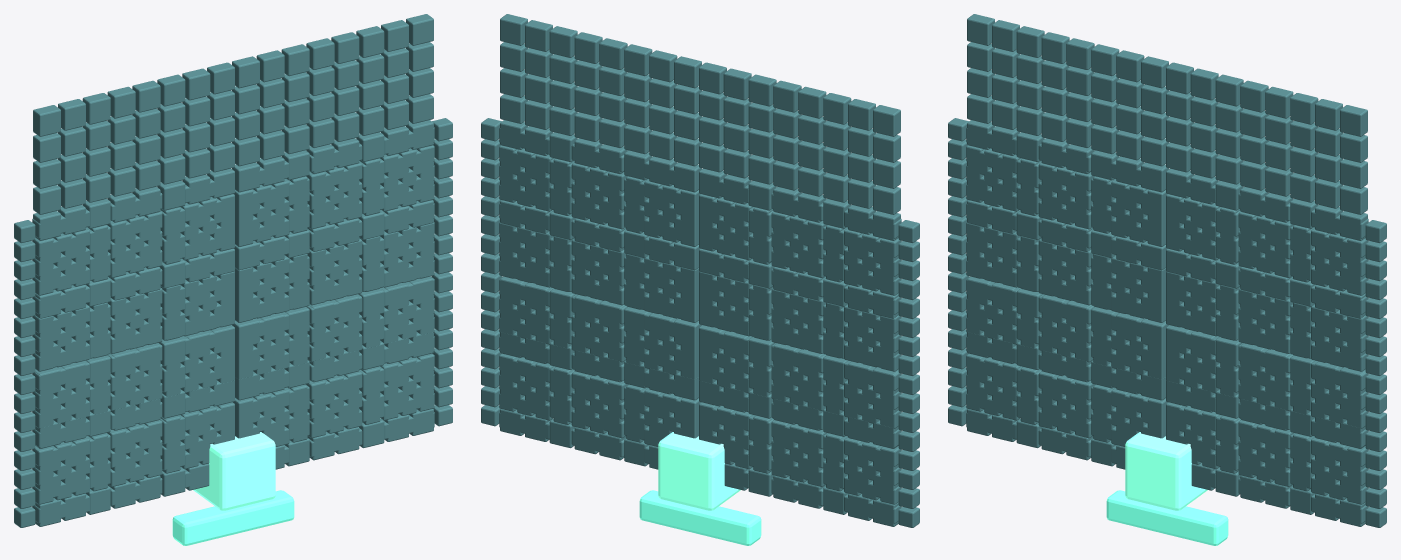
Rendered from detail_kit.glb.
3 views of the same model, side by side, from view 1: azimuth 30°, elevation 25°; view 2: azimuth 150°, elevation 25°; view 3: azimuth 330°, elevation 25° (orthographic).
Visible parts, largest first — view 1: cache_unit, shared_expert, attention_0, attention_3, attention_6, attention_11, attention_13, attention_10, attention_12, attention_4, attention_5, attention_16 (+81 smaller); view 2: cache_unit, shared_expert, attention_0, attention_3, attention_6, attention_11, attention_13, attention_10, attention_12, attention_4, attention_5, attention_16 (+85 smaller); view 3: cache_unit, shared_expert, attention_15, attention_9, attention_12, attention_4, attention_2, attention_3, attention_5, attention_10, attention_11, attention_31 (+85 smaller).
Boxes of the visible parts, left/top/right/bottom form: cache_unit: left=193, top=432, right=275, bottom=510; shared_expert: left=172, top=490, right=294, bottom=545; attention_0: left=33, top=105, right=60, bottom=136; attention_3: left=107, top=86, right=135, bottom=118; attention_6: left=182, top=68, right=210, bottom=100; attention_11: left=306, top=38, right=334, bottom=69; attention_13: left=356, top=26, right=384, bottom=57; attention_10: left=281, top=44, right=309, bottom=76; attention_12: left=331, top=32, right=359, bottom=63; attention_4: left=132, top=80, right=160, bottom=112; attention_5: left=157, top=74, right=185, bottom=106; attention_16: left=33, top=133, right=60, bottom=162; cache_unit: left=658, top=432, right=740, bottom=510; shared_expert: left=639, top=490, right=761, bottom=545; attention_0: left=873, top=105, right=900, bottom=136; attention_3: left=798, top=86, right=826, bottom=118; attention_6: left=723, top=68, right=751, bottom=100; attention_11: left=599, top=38, right=627, bottom=69; attention_13: left=549, top=26, right=577, bottom=57; attention_10: left=624, top=44, right=652, bottom=76; attention_12: left=574, top=32, right=602, bottom=63; attention_4: left=773, top=80, right=801, bottom=112; attention_5: left=748, top=74, right=776, bottom=106; attention_16: left=873, top=133, right=900, bottom=162; cache_unit: left=1125, top=432, right=1207, bottom=510; shared_expert: left=1106, top=490, right=1228, bottom=545; attention_15: left=1340, top=105, right=1367, bottom=136; attention_9: left=1190, top=68, right=1218, bottom=100; attention_12: left=1265, top=86, right=1293, bottom=118; attention_4: left=1066, top=38, right=1094, bottom=69; attention_2: left=1016, top=26, right=1044, bottom=57; attention_3: left=1041, top=32, right=1069, bottom=63; attention_5: left=1091, top=44, right=1119, bottom=76; attention_10: left=1215, top=74, right=1243, bottom=106; attention_11: left=1240, top=80, right=1268, bottom=112; attention_31: left=1340, top=133, right=1367, bottom=162.
Bounding box in the file's own units: 7.74 × 7.97 × 1.
